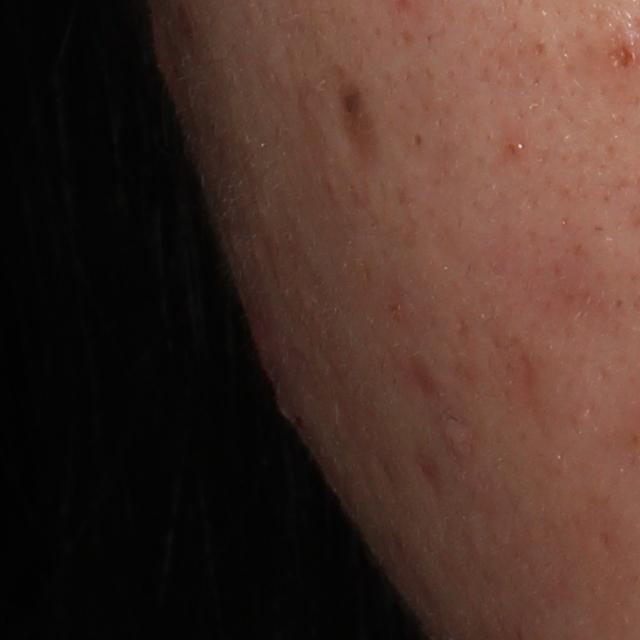atrophic_scar: (339, 87, 369, 166)
comedo: (405, 127, 427, 153)
